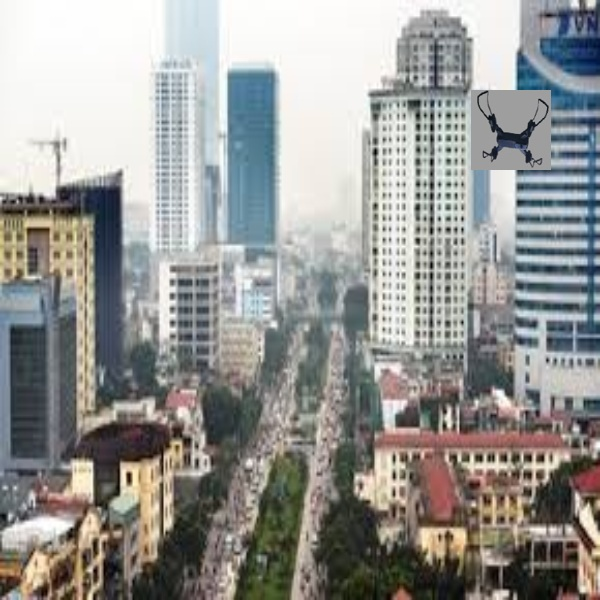drone: (470, 84, 553, 165)
